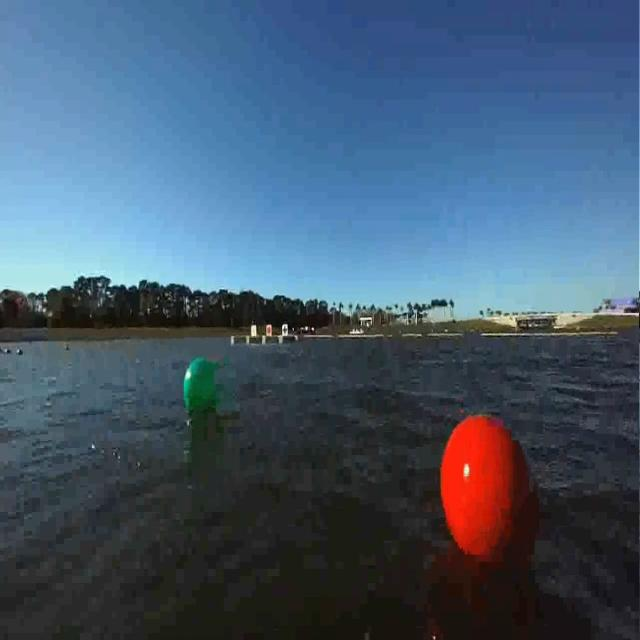green-buoy: (178, 354, 222, 422), (463, 463, 471, 476)
red-buoy: (433, 412, 544, 568)
